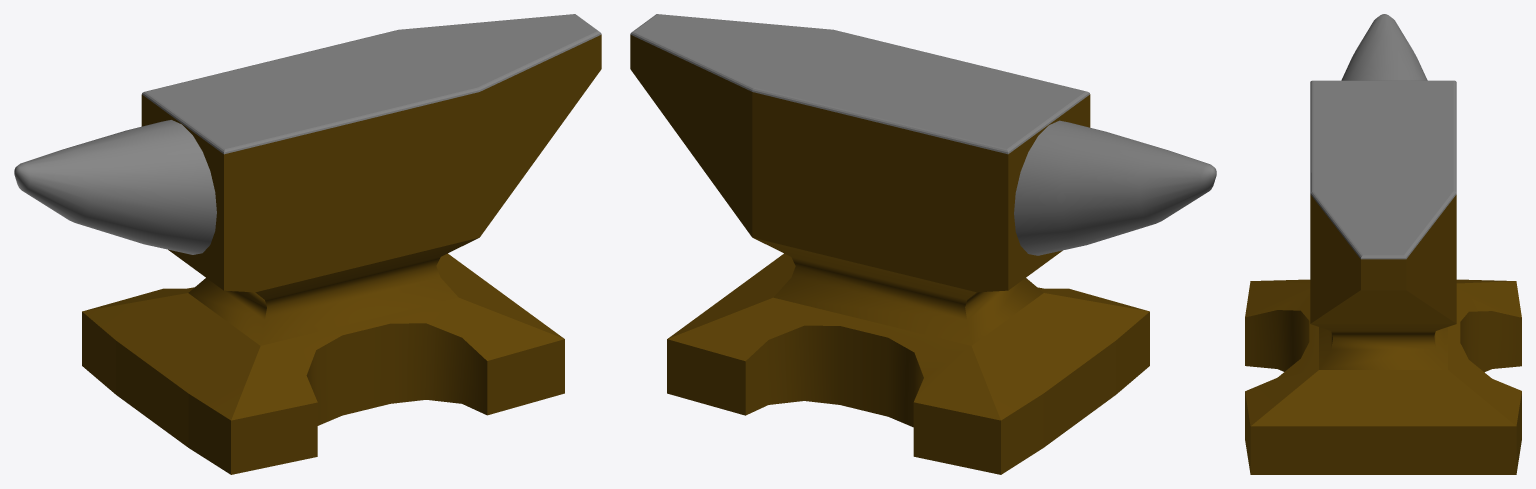
File: anvil.fbx
3 renders of one model, left to right at view 1: azimuth 30°, elevation 25°; view 2: azimuth 150°, elevation 25°; view 3: azimuth 270°, elevation 25°, orthographic. The views are drawn at different scales.
Visible parts, largest first — view 1: anvil; view 2: anvil; view 3: anvil.
Boxes of the visible parts, x1,y1,x2,y2 form: anvil: [14, 14, 601, 474]; anvil: [630, 14, 1216, 474]; anvil: [1245, 14, 1521, 474].
Size of the model in its own units: 3.01 by 1.47 by 1.41.
